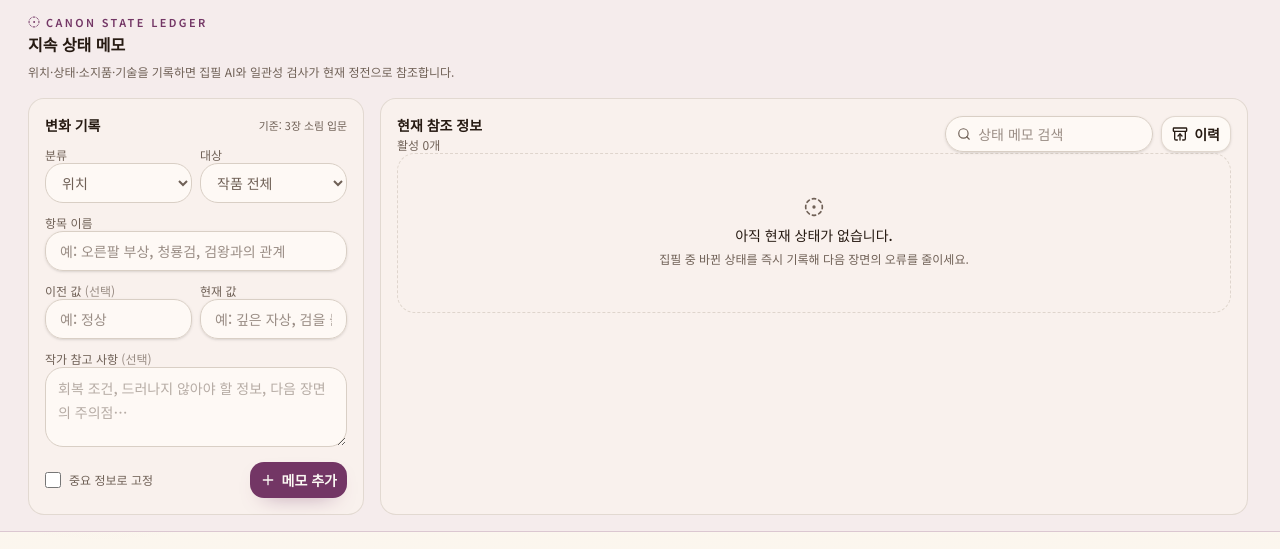
StoryStatePanel › 현재 챕터에 상태 변화를 추가하고 목록에 즉시 표시한다
The image size is (1280, 549).
Expected: the text "아직 현재 상태가 없습니다." is shown, [735, 225, 893, 245]
Select "소지품" in the dropdown labelled "분류" at (118, 183), box [45, 163, 192, 203]
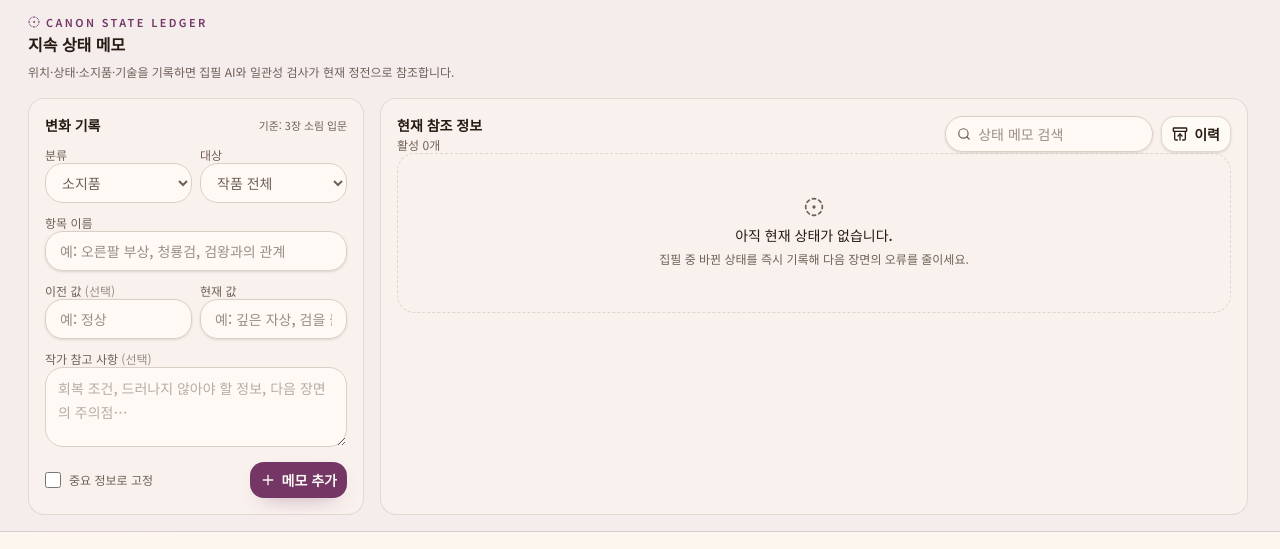
Select "검은 토끼" in the dropdown labelled "대상" at (274, 183), box [200, 163, 347, 203]
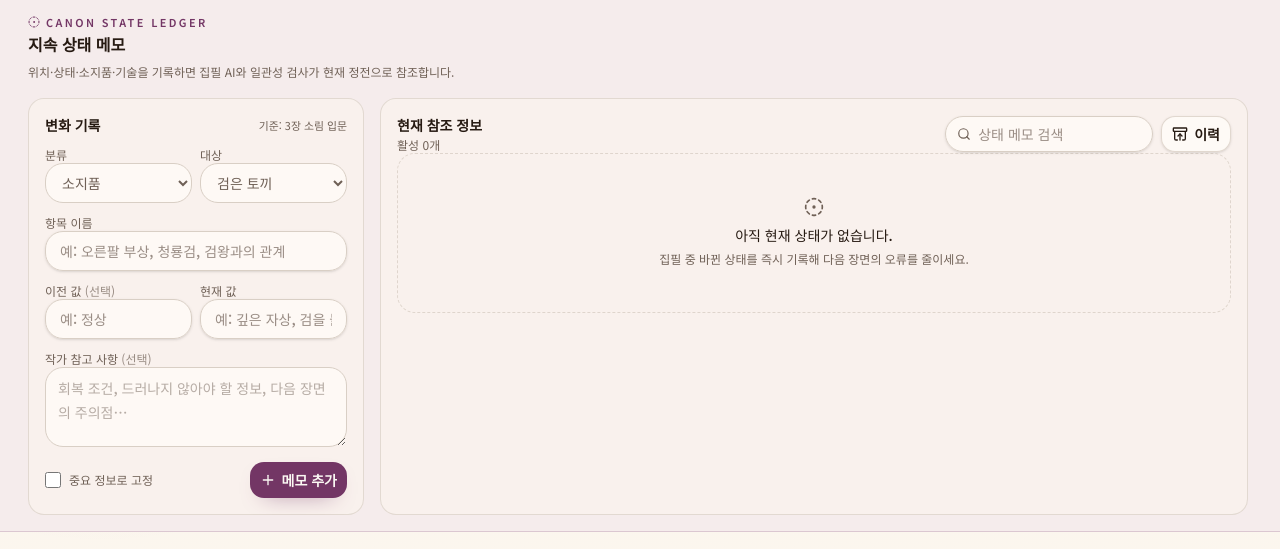
Type "공청석유" into the field labelled "항목 이름" at (196, 251), box [45, 231, 347, 271]
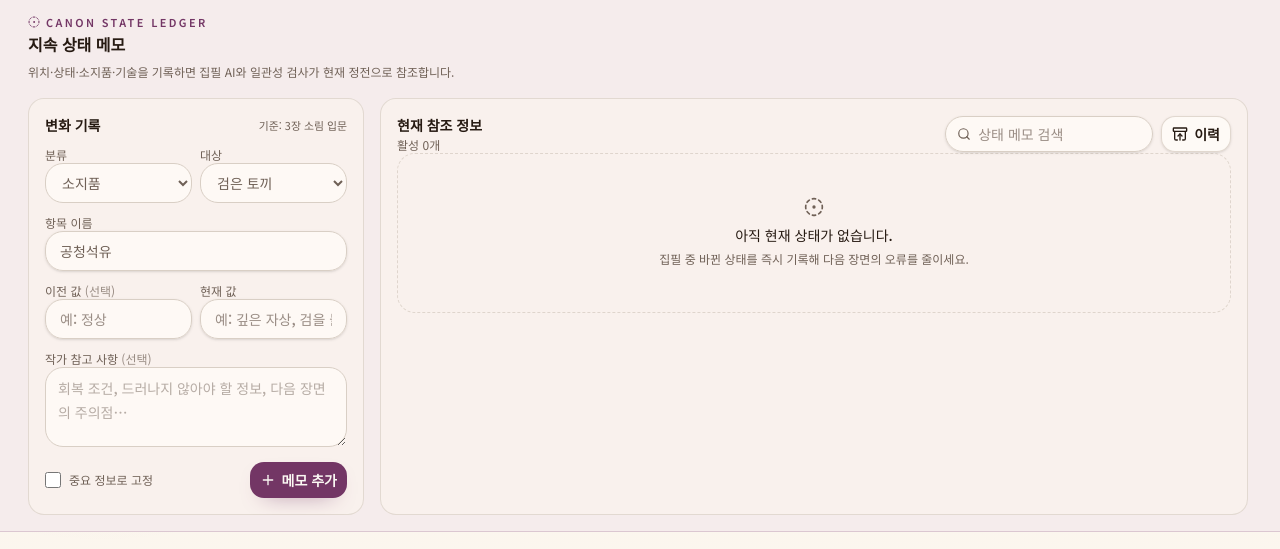
Type "바위 틈에 숨김" into the field labelled "이전 값 (선택)" at (118, 319), box [45, 299, 192, 339]
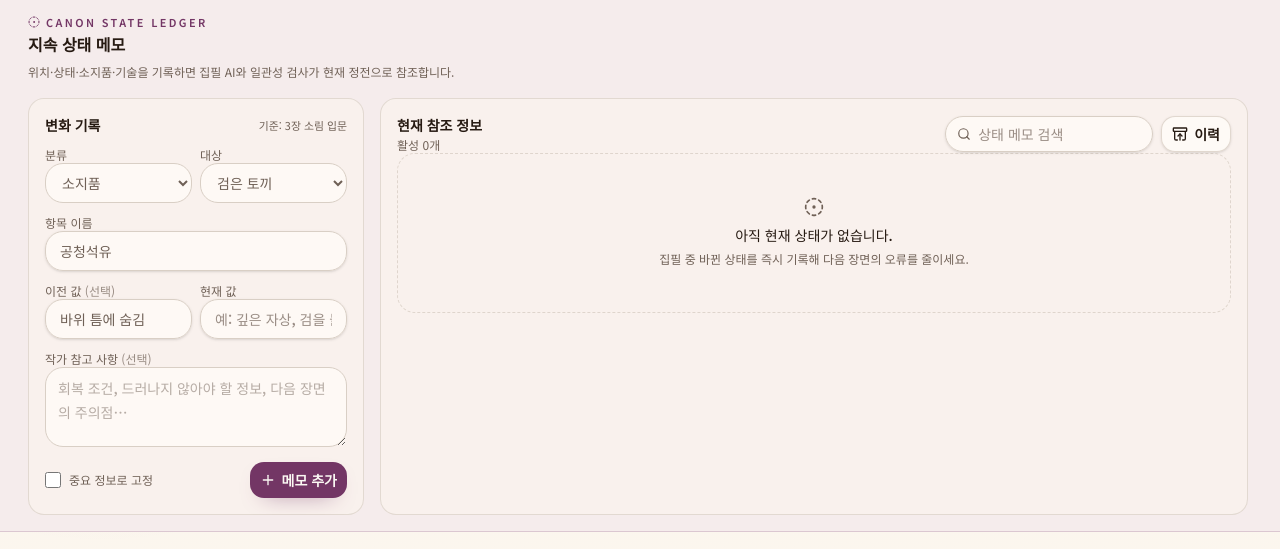
Type "품에 소지" into the field labelled "현재 값" at (274, 319), box [200, 299, 347, 339]
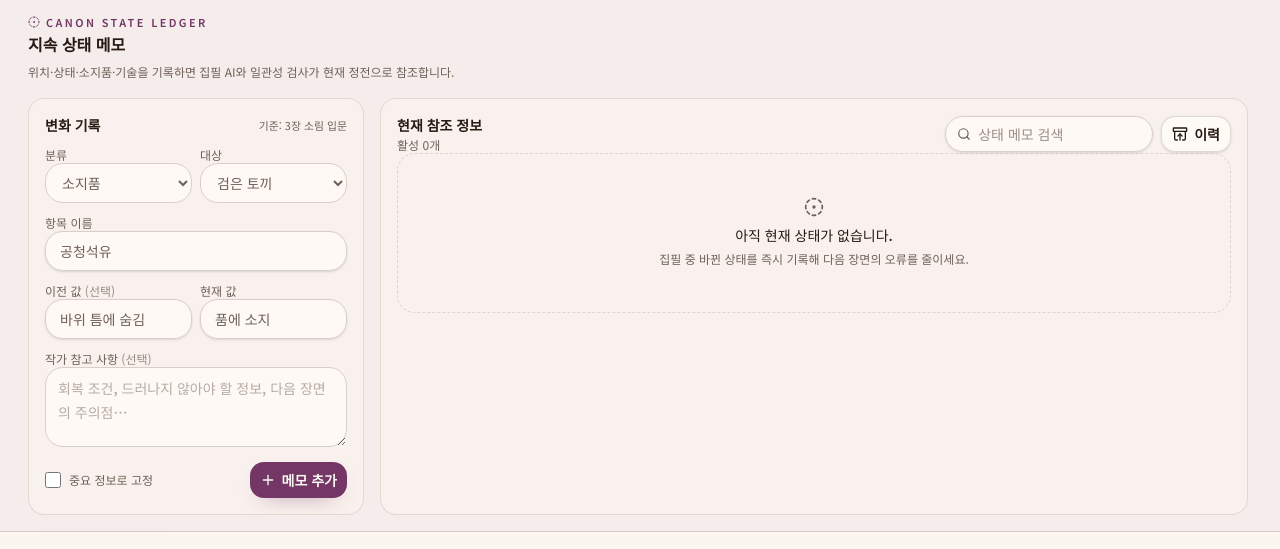
Click the button "메모 추가" at (298, 480), box [250, 462, 347, 498]
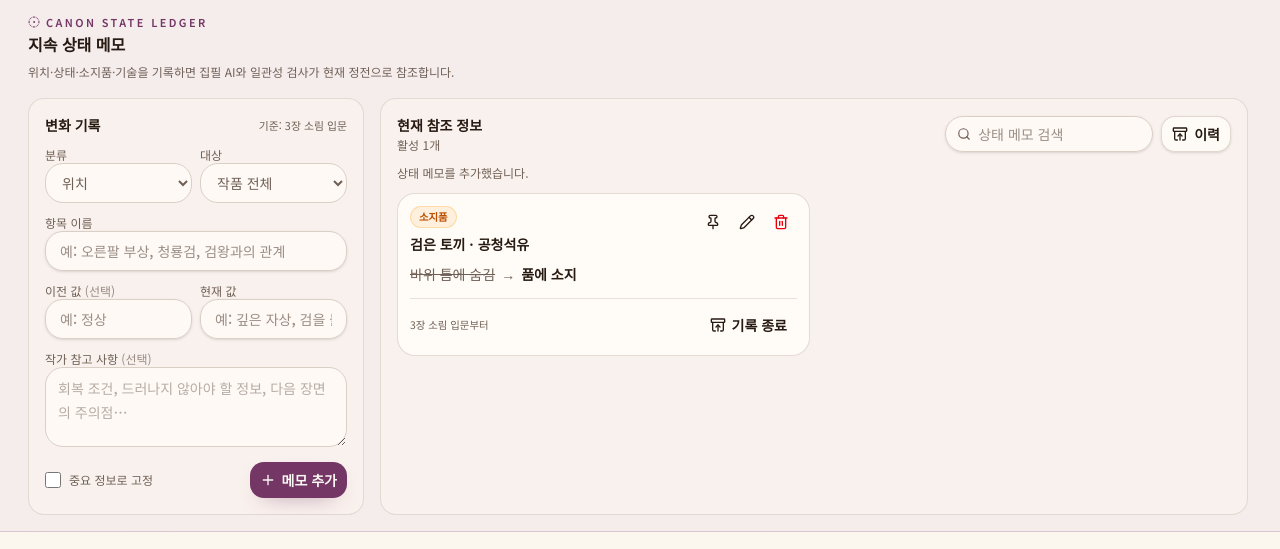
Expected: the heading "검은 토끼 · 공청석유" is shown, [410, 234, 529, 254]
Expected: the text "품에 소지" is shown, [521, 264, 577, 284]
